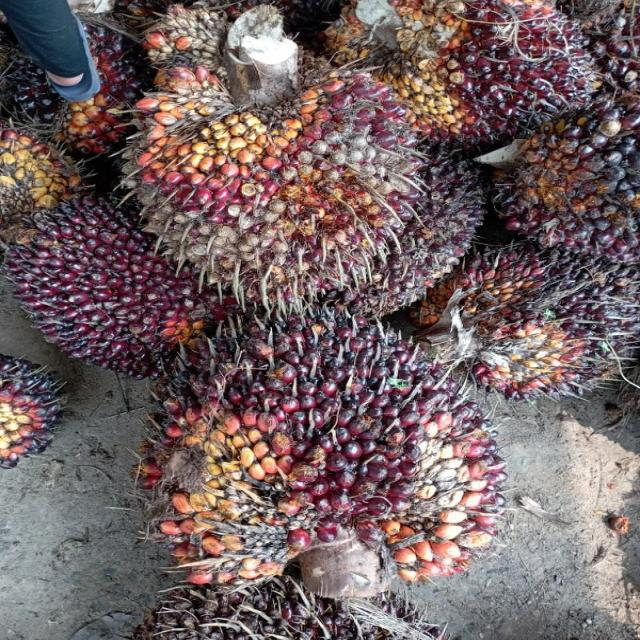fraksi 1: (119, 67, 461, 346)
